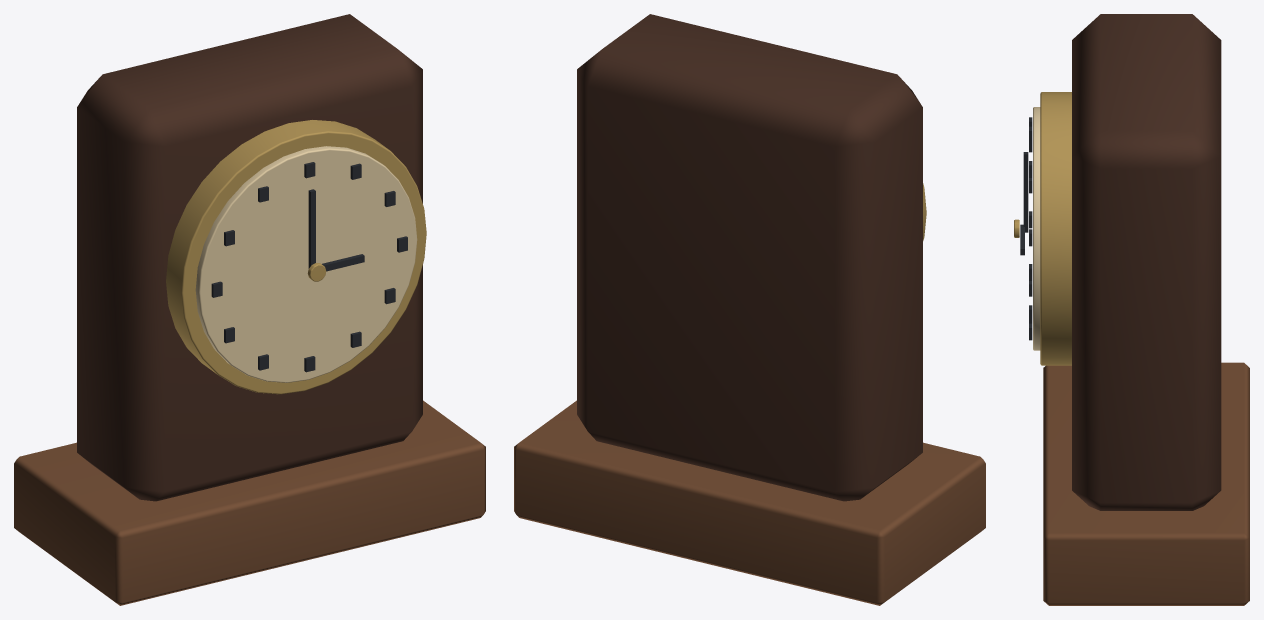
Rendered from rpg-mansion-mantel-clock-01.glb.
3 renders of one model, left to right at view 1: azimuth 30°, elevation 25°; view 2: azimuth 150°, elevation 25°; view 3: azimuth 270°, elevation 25°, orthographic. The views are drawn at different scales.
Parts seen in each view (by area): view 1: rpg-mansion-mantel-clock-01; view 2: rpg-mansion-mantel-clock-01; view 3: rpg-mansion-mantel-clock-01.
Boxes of the visible parts, left/top/right/bottom form: rpg-mansion-mantel-clock-01: left=14, top=14, right=485, bottom=605; rpg-mansion-mantel-clock-01: left=514, top=14, right=985, bottom=605; rpg-mansion-mantel-clock-01: left=1014, top=14, right=1249, bottom=605.
Size of the model in its own units: 0.36 by 0.43 by 0.205.
